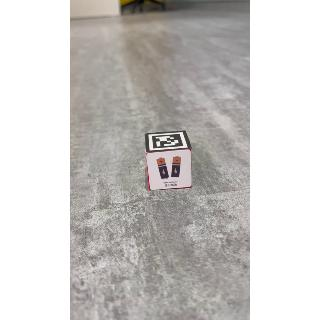Used_Battery: (146, 150, 196, 190)
